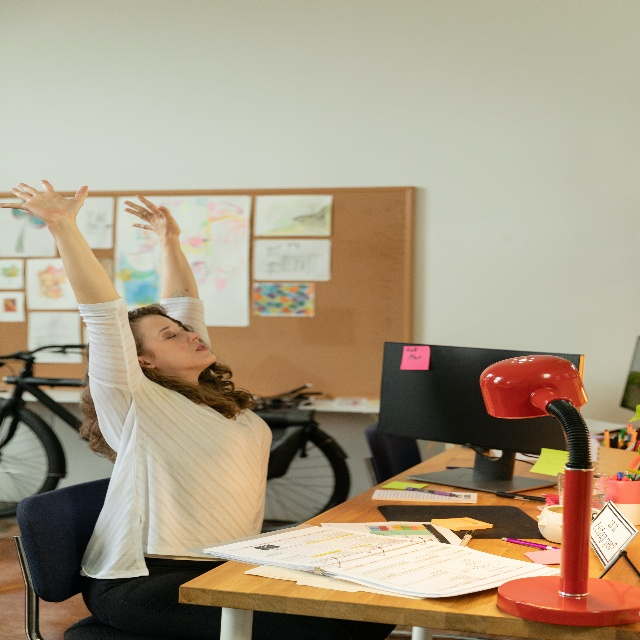Sin_guantes: (0, 174, 89, 229), (123, 192, 181, 242)
